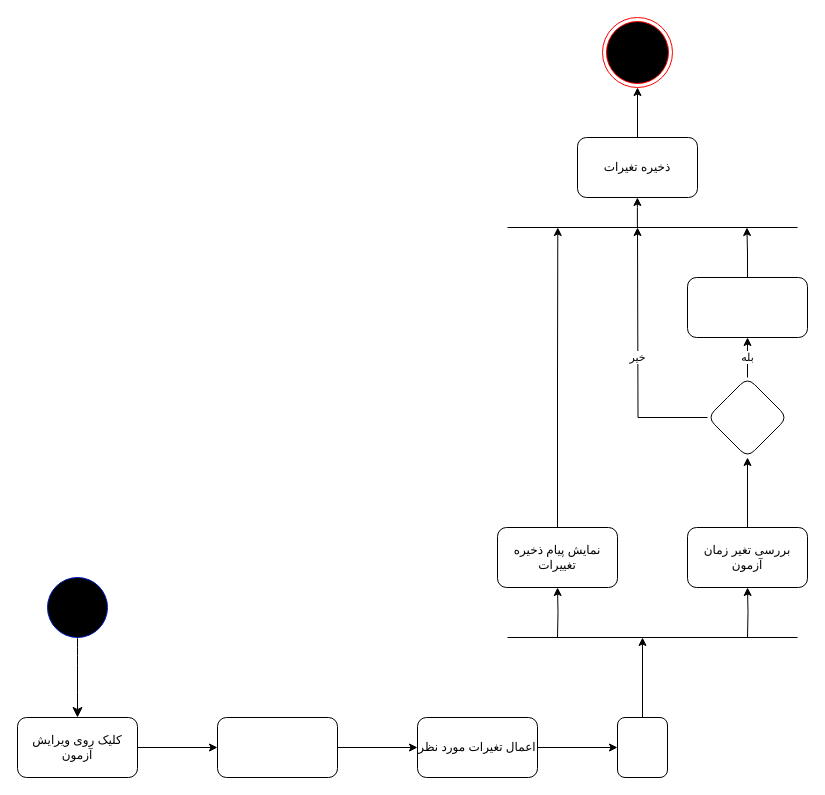
The diagram is 825 pixels wide and 795 high, and some of its shapes have lost their labels. The shapes that lost their labels are listed below. From the top down, each one's centre as x and y in pixels, then its label:
point 747,307: ایمیل اطلاع رسانی به هنرجویان
point 277,747: قابل ویرایش شدن همه فیلد ها
point 642,747: تایید
